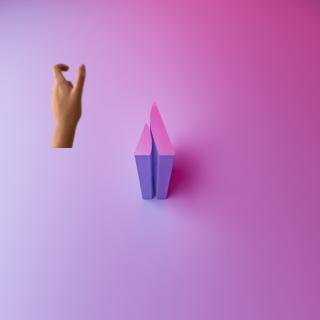Irritated: (46, 57, 93, 148)
